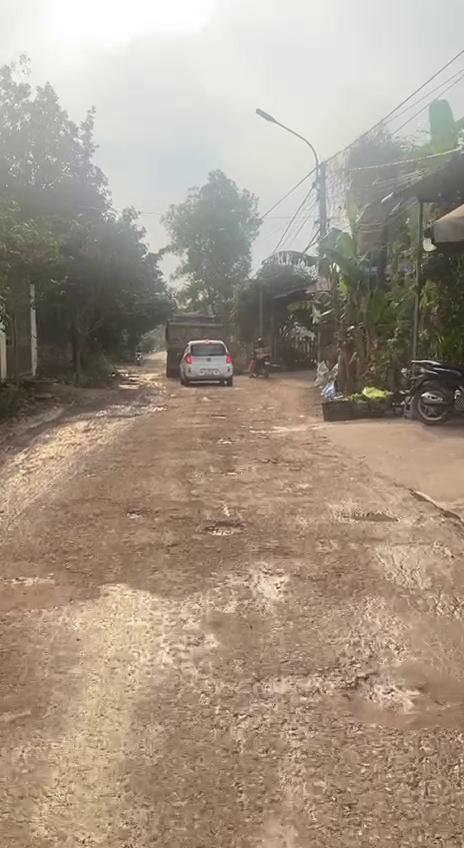pothole: (340, 664, 464, 732), (256, 666, 344, 704), (198, 516, 246, 540), (342, 508, 400, 526)
